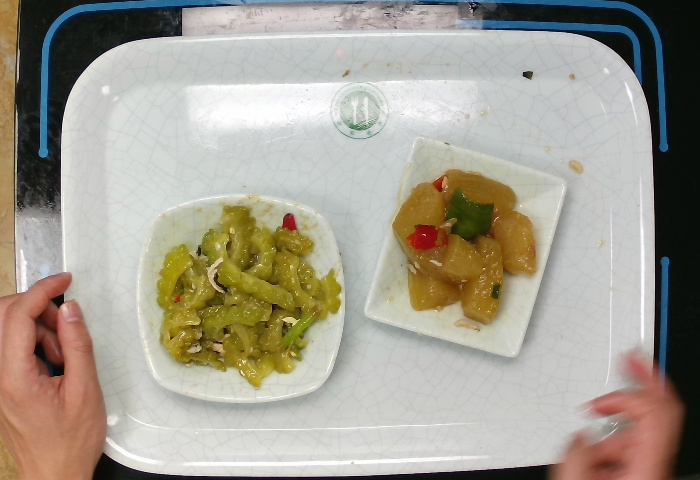WCQzf-Da_Si_Fang_Die: (131, 190, 347, 408)
WCQzf-Ru_Ci_Si_Fang_Die: (361, 132, 571, 362)
